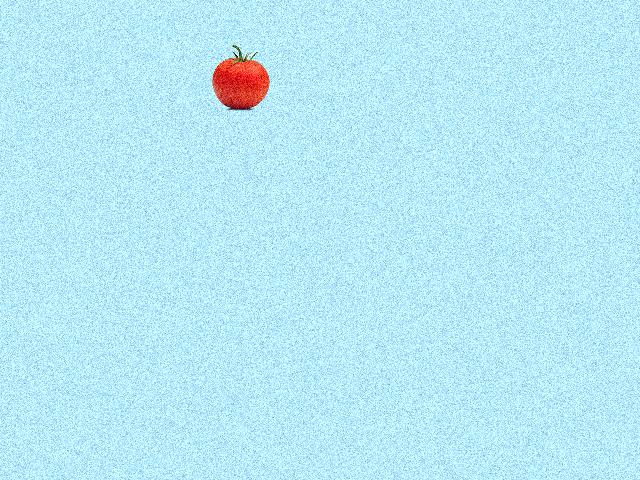tomato: (213, 58, 270, 108)
